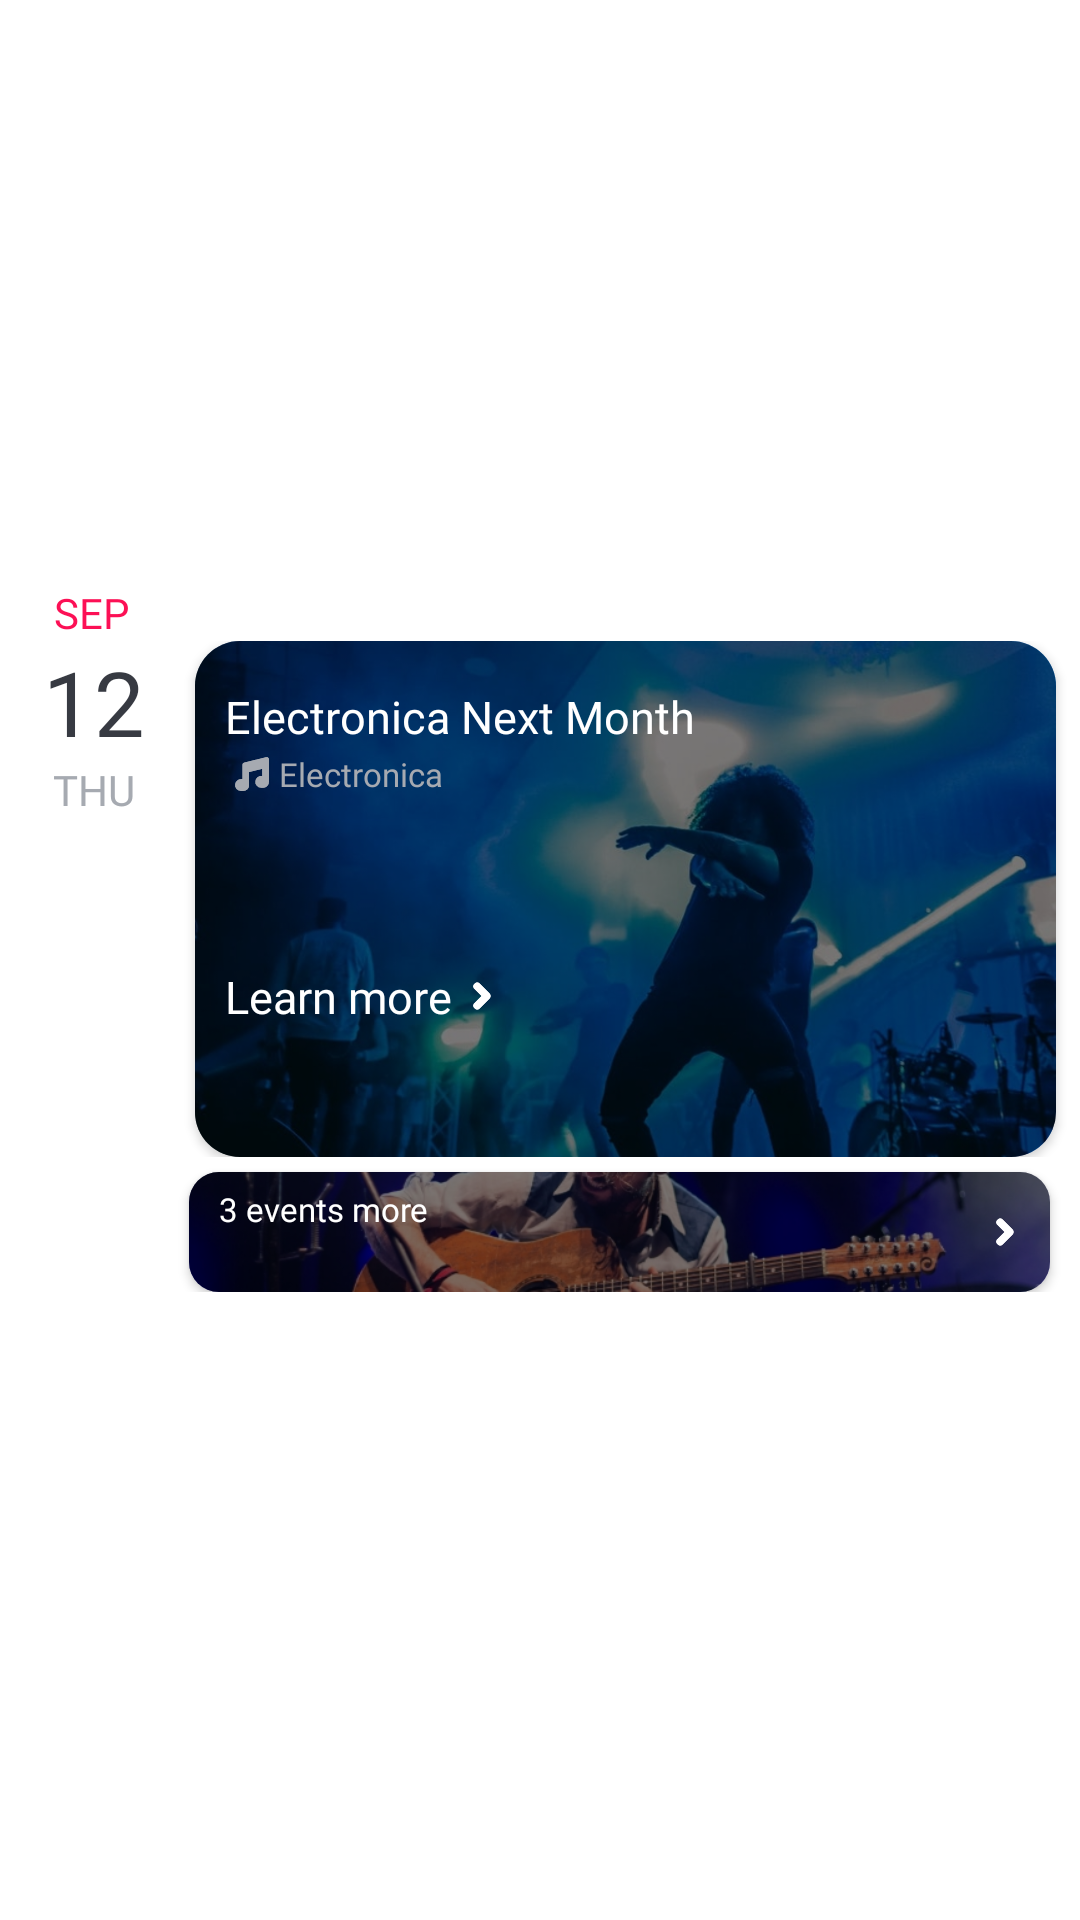

Icons on this 1080x1920 Android screen, each with the point to tap as (x=x, y=y):
tags music: (x=252, y=774)
